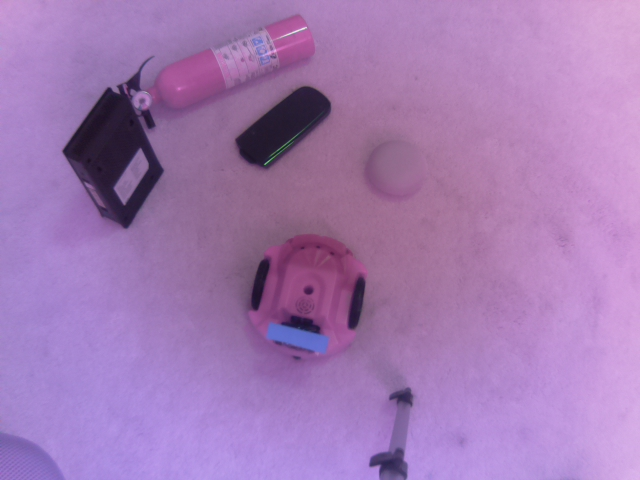board: (265, 315, 330, 360)
chassis: (245, 226, 366, 366)
